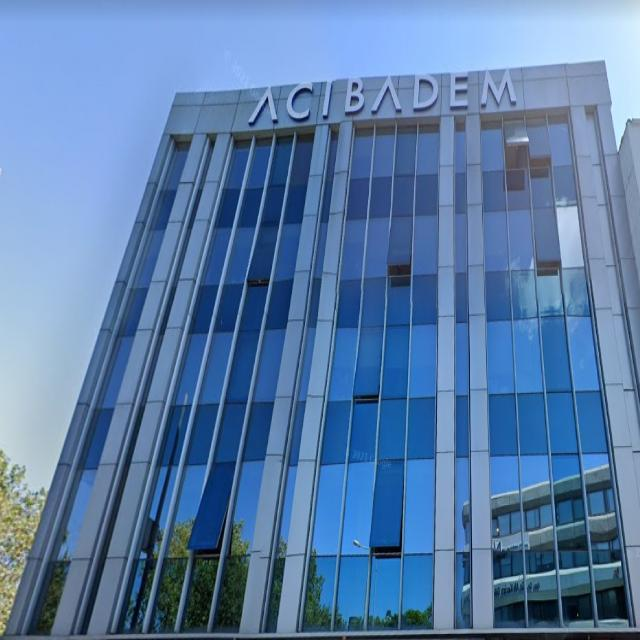Building: (3, 60, 640, 640)
